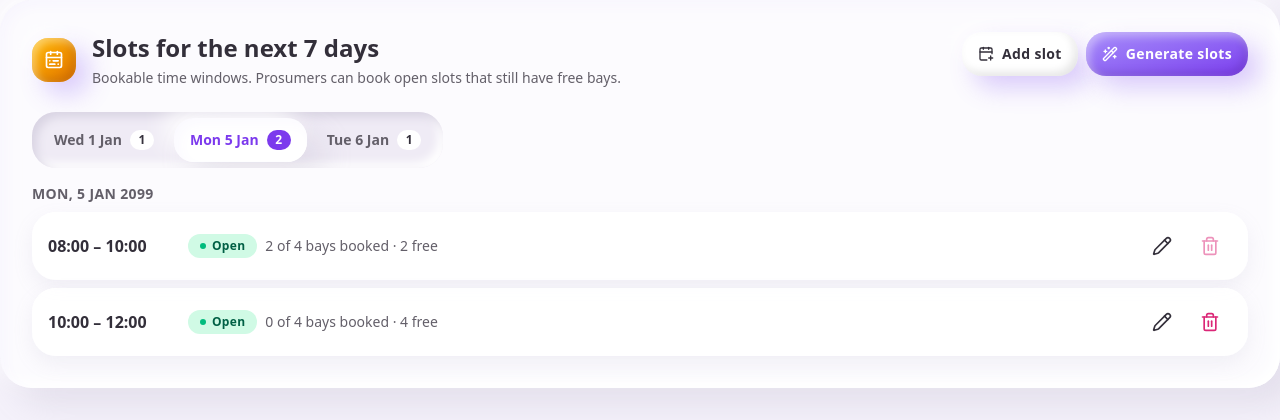
Test: SlotsPanel › shows one day at a time and locks the finished slots
expect the number of elements "Jan" is 1: met, box [32,184,1248,356]
Click the tab "Tue 6 Jan 1" at {"x": 374, "y": 140}, box [311,118,437,162]
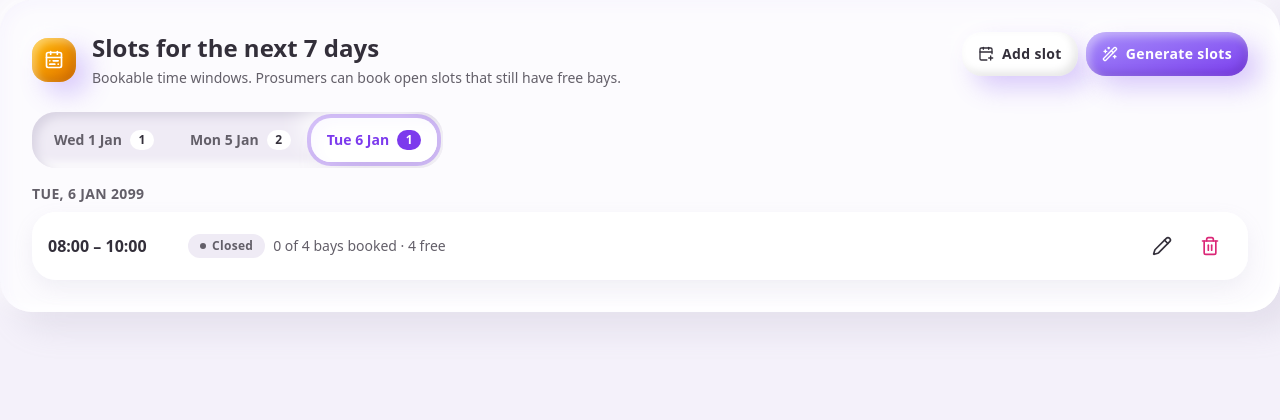
expect the text "Closed" is shown: met, box [188,234,265,258]
Click the tab "Wed 1 Jan 1" at {"x": 104, "y": 140}, box [38,118,170,162]
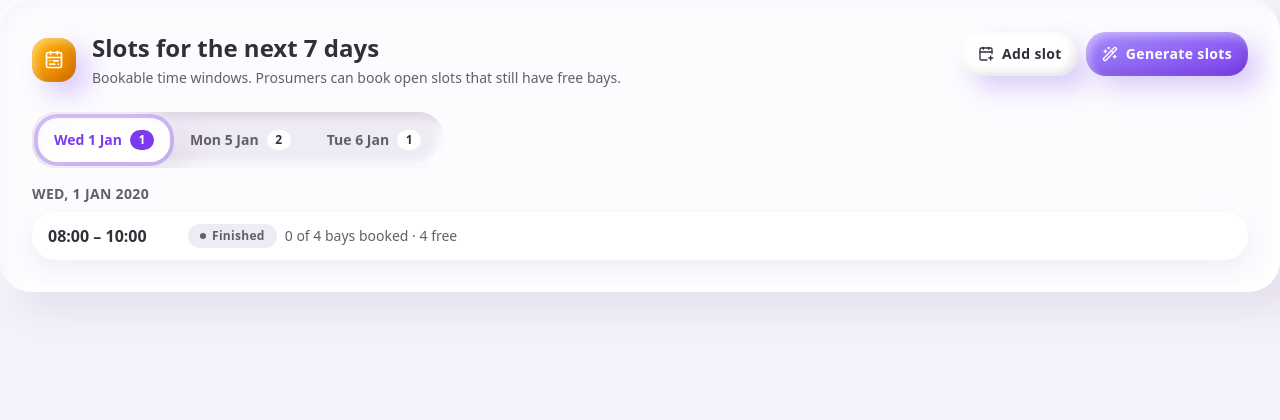
expect the text "Finished" is shown: met, box [188,224,277,248]
